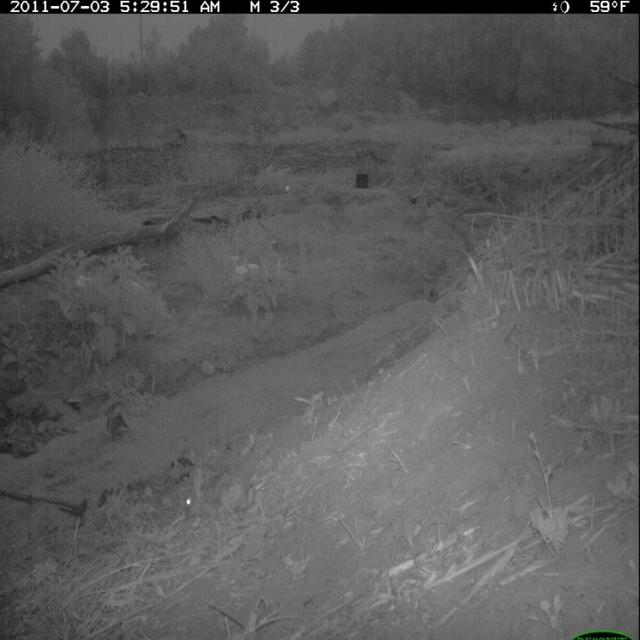rabbit: (182, 462, 264, 536)
